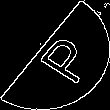P_NW: (19, 25, 91, 85)
